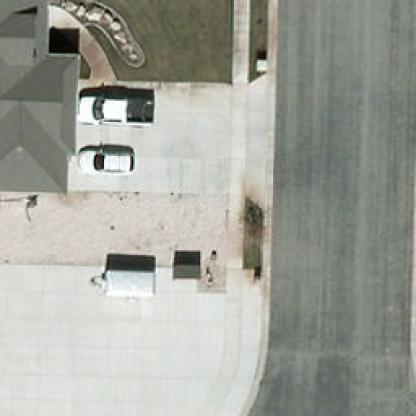car: (70, 147, 136, 170)
pickup: (76, 96, 153, 124)
